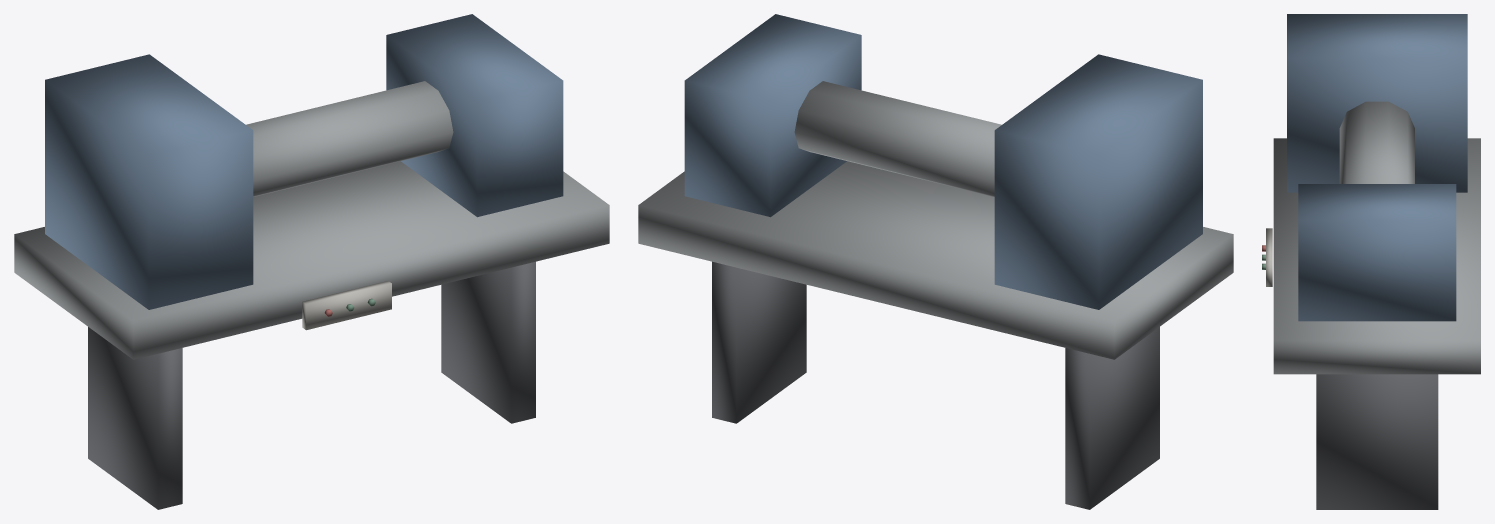
File: metal_lathe_silhouette__deep.glb
3 views of the same model, side by side, from view 1: azimuth 30°, elevation 25°; view 2: azimuth 150°, elevation 25°; view 3: azimuth 270°, elevation 25° (orthographic). The views are drawn at different scales.
Parts seen in each view (by area): view 1: world; view 2: world; view 3: world.
Boxes of the visible parts, x1,y1,x2,y2 form: world: (14, 14, 609, 509); world: (638, 14, 1233, 509); world: (1262, 14, 1480, 509).
Size of the model in its own units: 1.55 by 1.16 by 0.7088.
